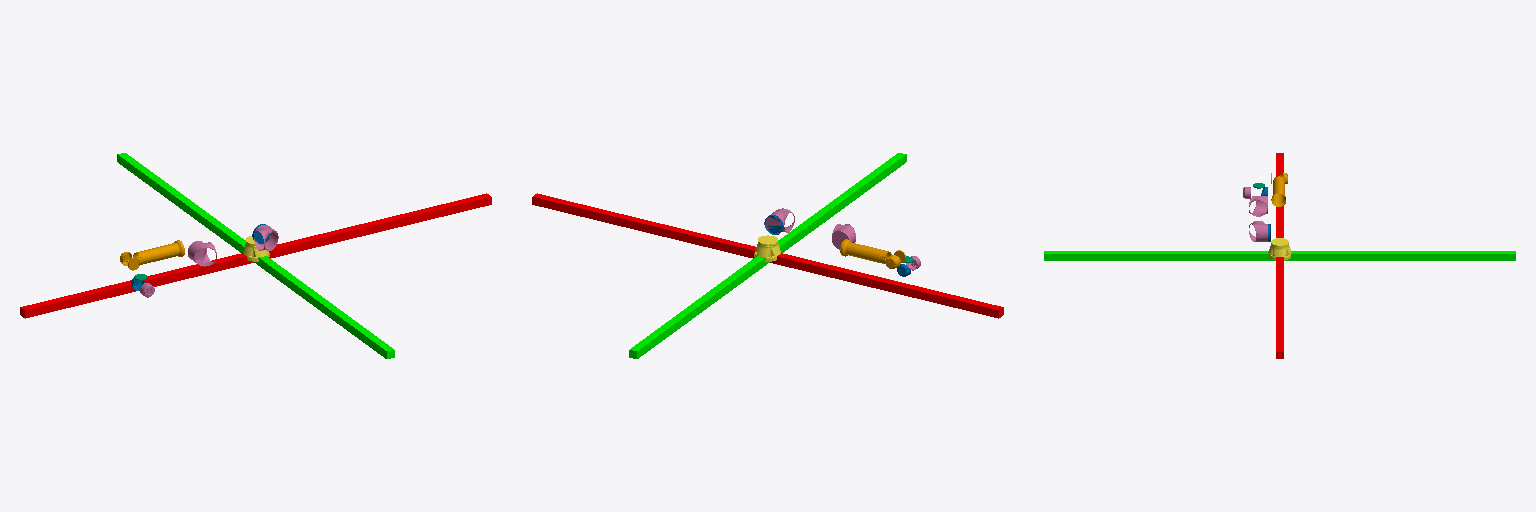
URDF robot description (ur5_with_xy_axes):
<?xml version="1.0" ?>
<robot name="ur5_with_xy_axes">
    <!--
    ================================================================================
    EXTERNAL AXES DEFINITION (X, Y Prismatic Joints)
    These axes allow the entire UR5 arm to move along the world frame's X and Y axes.
    The chain is: world -> X_axis -> Y_axis -> UR5_base
    ================================================================================
    -->

    <link name="world">
        <inertial>
            <origin xyz="0.0 0.0 0.0" rpy="0.0 0.0 0.0"/>
            <mass value="0.0"/>
            <inertia ixx="0.0" iyy="0.0" izz="0.0" ixy="0" ixz="0" iyz="0"/>
        </inertial>
    </link>

    <!-- Intermediate Link for X movement -->
    <link name="base_x_link">
        <visual>
            <geometry>
                <box size="3.0 0.05 0.05"/>
            </geometry>
            <material name="Red">
                <color rgba="1.0 0.0 0.0 1.0"/>
            </material>
        </visual>
        <inertial>
            <origin xyz="0 0 0" rpy="0 0 0"/>
            <mass value="0.001"/>
            <inertia ixx="1e-6" iyy="1e-6" izz="1e-6" ixy="0" ixz="0" iyz="0"/>
        </inertial>
    </link>

    <!-- Joint for X-axis translation -->
    <joint name="external_axis_x_joint" type="prismatic">
        <parent link="world"/>
        <child link="base_x_link"/>
        <origin xyz="0.0 0.0 0.0" rpy="0.0 0.0 0.0"/>
        <axis xyz="1.0 0.0 0.0"/>
        <!-- Limits for movement along X (e.g., +/- 1.5 meters) -->
        <limit lower="-1.5" upper="1.5" effort="1000" velocity="10"/>
    </joint>

    <!-- Intermediate Link for Y movement -->
    <link name="base_y_link">
        <visual>
            <geometry>
                <box size="0.05 3.0 0.05"/>
            </geometry>
            <material name="Green">
                <color rgba="0.0 1.0 0.0 1.0"/>
            </material>
        </visual>
        <inertial>
            <origin xyz="0 0 0" rpy="0 0 0"/>
            <mass value="0.001"/>
            <inertia ixx="1e-6" iyy="1e-6" izz="1e-6" ixy="0" ixz="0" iyz="0"/>
        </inertial>
    </link>

    <!-- Joint for Y-axis translation -->
    <joint name="external_axis_y_joint" type="prismatic">
        <parent link="base_x_link"/>
        <child link="base_y_link"/>
        <origin xyz="0.0 0.0 0.0" rpy="0.0 0.0 0.0"/>
        <axis xyz="0.0 1.0 0.0"/>
        <!-- Limits for movement along Y (e.g., +/- 1.5 meters) -->
        <limit lower="-1.5" upper="1.5" effort="1000" velocity="10"/>
    </joint>

    <!-- Fixed joint connecting the Y-axis link to the original UR5 'base' link. -->
    <joint type="fixed" name="external_axes_to_ur5_base_fixed">
        <parent link="base_y_link"/>
        <child link="base"/>
        <origin xyz="0.0 0.0 0.0" rpy="0.0 0.0 3.141592653589793"/>
    </joint>

    <!--
    ================================================================================
    ORIGINAL UR5 ROBOT DEFINITION (Links and Joints preserved from original file)
    ================================================================================
    -->

    <link name="base">
        <inertial>
            <origin xyz="0.0 0.0 0.0" rpy="0.0 0.0 0.0"/>
            <mass value="4.0"/>
            <inertia ixx="0.00443333156" iyy="0.00443333156" izz="0.0072" ixy="0" ixz="0" iyz="0"/>
        </inertial>
        <visual name="base_0">
            <origin xyz="6.729318621181485e-07 -3.6596373548373673e-07 0.09357351429819695" rpy="-1.5707963267948966 -1.5707857113515709 3.141592653589793"/>
            <geometry>
                <mesh filename="meshes/base_0.obj"/>
            </geometry>
        </visual>
        <visual name="base_1">
            <origin xyz="1.503945707798981e-07 5.030274644771805e-07 0.03113409206125086" rpy="-1.399528539771004 -1.5707749404564806 -1.0870925788402255"/>
            <geometry>
                <mesh filename="meshes/base_1.obj"/>
            </geometry>
        </visual>
    </link>

    <link name="shoulder_link">
        <inertial>
            <origin xyz="0.0 0.0 0.0" rpy="0.0 0.0 0.0"/>
            <mass value="3.7"/>
            <inertia ixx="0.0102675" iyy="0.0102675" izz="0.00666" ixy="0" ixz="0" iyz="0"/>
        </inertial>
        <visual name="shoulder_0">
            <origin xyz="0.0001579198071144923 -0.008422927154951222 0.04825544244212041" rpy="2.9720573015818483 -1.2403403911528637 -1.566448043192206"/>
            <geometry>
                <mesh filename="meshes/shoulder_0.obj"/>
            </geometry>
        </visual>
        <visual name="shoulder_1">
            <origin xyz="1.0217402531697843e-06 0.06888462521467517 -0.000503284068890808" rpy="0.16995490760307885 -1.5623390598795694e-05 1.5708061595614313"/>
            <geometry>
                <mesh filename="meshes/shoulder_1.obj"/>
            </geometry>
        </visual>
        <visual name="shoulder_2">
            <origin xyz="-4.987106654918215e-05 0.0005636150374333556 -0.01875771782384345" rpy="1.6252859977178944 0.74319992894974 1.5734657987361387"/>
            <geometry>
                <mesh filename="meshes/shoulder_2.obj"/>
            </geometry>
        </visual>
    </link>
    <link name="shoulder_pan_joint_jointbody">
        <inertial>
            <origin xyz="0.0 0.0 0.0" rpy="0.0 0.0 0.0"/>
            <mass value="0.001"/>
            <inertia ixx="1e-09" iyy="1e-09" izz="1e-09" ixy="0" ixz="0" iyz="0"/>
        </inertial>
    </link>
    <joint type="revolute" name="shoulder_pan_joint">
        <parent link="base"/>
        <child link="shoulder_pan_joint_jointbody"/>
        <origin xyz="0.0 0.0 0.163" rpy="0.0 0.0 0.0"/>
        <axis xyz="0.0 0.0 1.0"/>
        <limit lower="-6.28319" upper="6.28319" effort="100" velocity="100"/>
    </joint>
    <joint type="fixed" name="shoulder_pan_joint_offset">
        <parent link="shoulder_pan_joint_jointbody"/>
        <child link="shoulder_link"/>
        <origin xyz="-0.0 -0.0 -0.0" rpy="0.0 0.0 0.0"/>
    </joint>
    <link name="upper_arm_link">
        <inertial>
            <origin xyz="0.0 0.0 0.2125" rpy="0.0 0.0 0.0"/>
            <mass value="8.393"/>
            <inertia ixx="0.133886" iyy="0.133886" izz="0.0151074" ixy="0" ixz="0" iyz="0"/>
        </inertial>
        <visual name="upperarm_0">
            <origin xyz="-3.5760986999942557e-06 -0.00019999979744521934 0.2121351784520985" rpy="-0.00033054302069512875 -1.4933708105679955e-06 -0.35514353174096286"/>
            <geometry>
                <mesh filename="meshes/upperarm_0.obj"/>
            </geometry>
        </visual>
        <visual name="upperarm_1">
            <origin xyz="-7.532369564797005e-07 -0.02455902448126744 0.29812745654549255" rpy="0.17716174242397165 7.967832782251882e-05 -0.00048191154196722263"/>
            <geometry>
                <mesh filename="meshes/upperarm_1.obj"/>
            </geometry>
        </visual>
        <visual name="upperarm_2">
            <origin xyz="1.2475330963946302e-05 -0.020613766332852907 0.21354779205990887" rpy="-4.279076197777343e-05 -0.00939633188786626 1.5726071086918691"/>
            <geometry>
                <mesh filename="meshes/upperarm_2.obj"/>
            </geometry>
        </visual>
        <visual name="upperarm_3">
            <origin xyz="-1.6738822332805943e-05 0.04530972332900902 0.21224046110461658" rpy="-1.1169861401483239e-05 -0.00033473145213402944 1.5712747113366192"/>
            <geometry>
                <mesh filename="meshes/upperarm_3.obj"/>
            </geometry>
        </visual>
    </link>
    <link name="shoulder_lift_joint_jointbody">
        <inertial>
            <origin xyz="0.0 0.0 0.0" rpy="0.0 0.0 0.0"/>
            <mass value="0.001"/>
            <inertia ixx="1e-09" iyy="1e-09" izz="1e-09" ixy="0" ixz="0" iyz="0"/>
        </inertial>
    </link>
    <joint type="revolute" name="shoulder_lift_joint">
        <parent link="shoulder_link"/>
        <child link="shoulder_lift_joint_jointbody"/>
        <origin xyz="0.0 0.138 0.0" rpy="-0.0 1.5707963267948966 0.0"/>
        <axis xyz="0.0 1.0 0.0"/>
        <limit lower="-6.28319" upper="6.28319" effort="100" velocity="100"/>
    </joint>
    <joint type="fixed" name="shoulder_lift_joint_offset">
        <parent link="shoulder_lift_joint_jointbody"/>
        <child link="upper_arm_link"/>
        <origin xyz="-0.0 -0.0 -0.0" rpy="0.0 0.0 0.0"/>
    </joint>
    <link name="forearm_link">
        <inertial>
            <origin xyz="0.0 0.0 0.196" rpy="0.0 0.0 0.0"/>
            <mass value="2.275"/>
            <inertia ixx="0.0311796" iyy="0.0311796" izz="0.004095" ixy="0" ixz="0" iyz="0"/>
        </inertial>
        <visual name="forearm_0">
            <origin xyz="2.6207363383002557e-05 -0.03986927887408664 0.39588938552993114" rpy="0.14899667064407296 0.3108521731199525 1.5710806045312697"/>
            <geometry>
                <mesh filename="meshes/forearm_0.obj"/>
            </geometry>
        </visual>
        <visual name="forearm_1">
            <origin xyz="-2.3636867243387616e-05 -0.0004340913719860277 0.204343083020783" rpy="0.0003357950292532941 -0.0005516154353499836 1.3332982833164047"/>
            <geometry>
                <mesh filename="meshes/forearm_1.obj"/>
            </geometry>
        </visual>
        <visual name="forearm_2">
            <origin xyz="-9.66138589916062e-06 0.016976509028764613 0.25503902118262084" rpy="-0.1463016262272855 0.0006537089324485379 0.004919271858447524"/>
            <geometry>
                <mesh filename="meshes/forearm_2.obj"/>
            </geometry>
        </visual>
        <visual name="forearm_3">
            <origin xyz="2.975142777834475e-06 0.01196066834502387 0.163616824759711" rpy="2.9786105121054618e-05 0.020325139034571116 1.5715676831718508"/>
            <geometry>
                <mesh filename="meshes/forearm_3.obj"/>
            </geometry>
        </visual>
    </link>
    <link name="elbow_joint_jointbody">
        <inertial>
            <origin xyz="0.0 0.0 0.0" rpy="0.0 0.0 0.0"/>
            <mass value="0.001"/>
            <inertia ixx="1e-09" iyy="1e-09" izz="1e-09" ixy="0" ixz="0" iyz="0"/>
        </inertial>
    </link>
    <joint type="revolute" name="elbow_joint">
        <parent link="upper_arm_link"/>
        <child link="elbow_joint_jointbody"/>
        <origin xyz="0.0 -0.131 0.425" rpy="0.0 0.0 0.0"/>
        <axis xyz="0.0 1.0 0.0"/>
        <limit lower="-3.1415" upper="3.1415" effort="100" velocity="100"/>
    </joint>
    <joint type="fixed" name="elbow_joint_offset">
        <parent link="elbow_joint_jointbody"/>
        <child link="forearm_link"/>
        <origin xyz="-0.0 -0.0 -0.0" rpy="0.0 0.0 0.0"/>
    </joint>
    <link name="wrist_1_link">
        <inertial>
            <origin xyz="0.0 0.127 0.0" rpy="0.0 0.0 0.0"/>
            <mass value="1.219"/>
            <inertia ixx="0.0025599" iyy="0.0025599" izz="0.0021942" ixy="0" ixz="0" iyz="0"/>
        </inertial>
        <visual name="wrist1_0">
            <origin xyz="-2.324752008885248e-05 0.12628514044400524 0.04897505972393637" rpy="-1.5707963267955911 -1.5705970679188206 -1.169748682409278"/>
            <geometry>
                <mesh filename="meshes/wrist1_0.obj"/>
            </geometry>
        </visual>
        <visual name="wrist1_1">
            <origin xyz="-3.6644583695254237e-05 0.13040179162514767 -0.039703488567445454" rpy="-3.0659680894269 -1.2613429633090303 -1.5694033802823593"/>
            <geometry>
                <mesh filename="meshes/wrist1_1.obj"/>
            </geometry>
        </visual>
        <visual name="wrist1_2">
            <origin xyz="-2.0990614937820244e-06 0.11289621711604998 0.012388333942626797" rpy="-3.1400977441796236 -1.0305077756151968 -1.572331006823194"/>
            <geometry>
                <mesh filename="meshes/wrist1_2.obj"/>
            </geometry>
        </visual>
    </link>
    <link name="wrist_1_joint_jointbody">
        <inertial>
            <origin xyz="0.0 0.0 0.0" rpy="0.0 0.0 0.0"/>
            <mass value="0.001"/>
            <inertia ixx="1e-09" iyy="1e-09" izz="1e-09" ixy="0" ixz="0" iyz="0"/>
        </inertial>
    </link>
    <joint type="revolute" name="wrist_1_joint">
        <parent link="forearm_link"/>
        <child link="wrist_1_joint_jointbody"/>
        <origin xyz="0.0 0.0 0.392" rpy="-0.0 1.5707963267948966 0.0"/>
        <axis xyz="0.0 1.0 0.0"/>
        <limit lower="-6.28319" upper="6.28319" effort="100" velocity="100"/>
    </joint>
    <joint type="fixed" name="wrist_1_joint_offset">
        <parent link="wrist_1_joint_jointbody"/>
        <child link="wrist_1_link"/>
        <origin xyz="-0.0 -0.0 -0.0" rpy="0.0 0.0 0.0"/>
    </joint>
    <link name="wrist_2_link">
        <inertial>
            <origin xyz="0.0 0.0 0.1" rpy="0.0 0.0 0.0"/>
            <mass value="1.219"/>
            <inertia ixx="0.0025599" iyy="0.0025599" izz="0.0021942" ixy="0" ixz="0" iyz="0"/>
        </inertial>
        <visual name="wrist2_0">
            <origin xyz="-3.8001937811610543e-06 0.04853645611151084 0.09943580433195488" rpy="0.17748605449059573 0.0 1.5707963267948966"/>
            <geometry>
                <mesh filename="meshes/wrist2_0.obj"/>
            </geometry>
        </visual>
        <visual name="wrist2_1">
            <origin xyz="3.169640163593594e-05 -0.040206055715980675 0.10359119935436584" rpy="0.11116566518449311 0.3094663745829749 1.5711748623937276"/>
            <geometry>
                <mesh filename="meshes/wrist2_1.obj"/>
            </geometry>
        </visual>
        <visual name="wrist2_2">
            <origin xyz="9.000191078913615e-07 0.016056655860314212 0.09663180277604577" rpy="-3.1411058592901813 -0.8028357577556227 -1.5708829412270986"/>
            <geometry>
                <mesh filename="meshes/wrist2_2.obj"/>
            </geometry>
        </visual>
    </link>
    <link name="wrist_2_joint_jointbody">
        <inertial>
            <origin xyz="0.0 0.0 0.0" rpy="0.0 0.0 0.0"/>
            <mass value="0.001"/>
            <inertia ixx="1e-09" iyy="1e-09" izz="1e-09" ixy="0" ixz="0" iyz="0"/>
        </inertial>
    </link>
    <joint type="revolute" name="wrist_2_joint">
        <parent link="wrist_1_link"/>
        <child link="wrist_2_joint_jointbody"/>
        <origin xyz="0.0 0.127 0.0" rpy="0.0 0.0 0.0"/>
        <axis xyz="0.0 0.0 1.0"/>
        <limit lower="-6.28319" upper="6.28319" effort="100" velocity="100"/>
    </joint>
    <joint type="fixed" name="wrist_2_joint_offset">
        <parent link="wrist_2_joint_jointbody"/>
        <child link="wrist_2_link"/>
        <origin xyz="-0.0 -0.0 -0.0" rpy="0.0 0.0 0.0"/>
    </joint>
    <link name="wrist_3_link">
        <inertial>
            <origin xyz="0.0 0.0771683 0.0" rpy="0.0 0.0 1.5707963267948963"/>
            <mass value="0.1889"/>
            <inertia ixx="0.000132134" iyy="9.90863e-05" izz="9.90863e-05" ixy="0" ixz="0" iyz="0"/>
        </inertial>
        <visual name="wrist3">
            <origin xyz="1.3730314416336136e-05 0.07930911124904105 -0.0005378684357207328" rpy="0.22605647583783017 0.004863637106366836 1.5703149375099286"/>
            <geometry>
                <mesh filename="meshes/wrist3.obj"/>
            </geometry>
        </visual>
    </link>
    <link name="wrist_3_joint_jointbody">
        <inertial>
            <origin xyz="0.0 0.0 0.0" rpy="0.0 0.0 0.0"/>
            <mass value="0.001"/>
            <inertia ixx="1e-09" iyy="1e-09" izz="1e-09" ixy="0" ixz="0" iyz="0"/>
        </inertial>
    </link>
    <joint type="revolute" name="wrist_3_joint">
        <parent link="wrist_2_link"/>
        <child link="wrist_3_joint_jointbody"/>
        <origin xyz="0.0 0.0 0.1" rpy="0.0 0.0 0.0"/>
        <axis xyz="0.0 1.0 0.0"/>
        <limit lower="-6.28319" upper="6.28319" effort="100" velocity="100"/>
    </joint>
    <joint type="fixed" name="wrist_3_joint_offset">
        <parent link="wrist_3_joint_jointbody"/>
        <child link="wrist_3_link"/>
        <origin xyz="-0.0 -0.0 -0.0" rpy="0.0 0.0 0.0"/>
    </joint>
</robot>

--- Render facts (derived) ---
3 views of the same robot in one strip: view 1: azimuth 30°, elevation 25°; view 2: azimuth 150°, elevation 25°; view 3: azimuth 270°, elevation 25° (orthographic).
Model ur5_with_xy_axes with 16 links and 15 joints (6 revolute, 2 prismatic, 7 fixed), rooted at world, posed every joint at zero.
Links seen in each view (by area): view 1: base_x_link, base_y_link, forearm_link, upper_arm_link; view 2: base_x_link, base_y_link, forearm_link, upper_arm_link; view 3: base_y_link, base_x_link, upper_arm_link.
Boxes of the visible links, x1,y1,x2,y2 form: base_x_link: (20,193,491,318); base_y_link: (117,153,394,358); forearm_link: (120,240,184,270); upper_arm_link: (188,225,278,266); base_x_link: (532,193,1003,318); base_y_link: (629,153,906,358); forearm_link: (840,239,905,268); upper_arm_link: (766,208,855,249); base_y_link: (1044,251,1515,260); base_x_link: (1276,153,1283,358); upper_arm_link: (1249,196,1267,241).
Size in the robot's own frame: 3 by 3 by 0.2463 metres.
Meshes: 20 distinct files referenced, 10 mesh visuals loaded (10 OBJ); not drawn: 10 (reference not matched to a file when rendering).